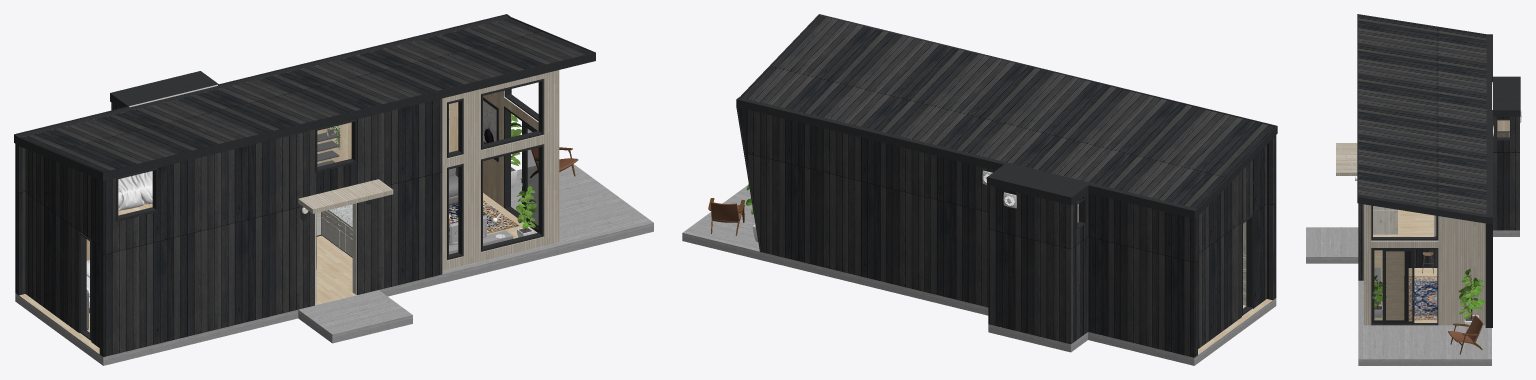
File: small_wood_house.glb
3 views of the same model, side by side, from view 1: azimuth 30°, elevation 25°; view 2: azimuth 150°, elevation 25°; view 3: azimuth 270°, elevation 25° (orthographic). The views are drawn at different scales.
Visible parts, largest first — view 1: Mesh2_Western_Red_Cedar_Stack_0, Mesh4_Steel_Brushed_Stainless_0, Mesh1_Pigmented_Concrete_0, Mesh2_Douglas_Fir_Staggered_0, Mesh1_Douglas_Fir_Staggered1_0, Mesh2_Ash_0, Mesh2_FrontColor_0, Mesh86_______Vicky______50_0, Mesh83_M_22_raw_wood_oak_light_PBR_texture_seamless_0, Mesh356_Persian_Rug_blue_0, Mesh31__Translucent_Glass_Gray_1_0, Mesh94_Knotted_Timber_0 (+2 smaller); view 2: Mesh2_Western_Red_Cedar_Stack_0, Mesh4_Steel_Brushed_Stainless_0, Mesh1_Pigmented_Concrete_0, Mesh442_Sofa_Midas_Estofado_Leather_0, Mesh1_Douglas_Fir_Staggered1_0; view 3: Mesh2_Western_Red_Cedar_Stack_0, Mesh1_Pigmented_Concrete_0, Mesh4_Steel_Brushed_Stainless_0, Mesh2_Douglas_Fir_Staggered_0, Mesh1_Douglas_Fir_Staggered1_0, Mesh31__Translucent_Glass_Gray_1_0, Mesh356_Persian_Rug_blue_0, Mesh83_M_22_raw_wood_oak_light_PBR_texture_seamless_0, Mesh491_VP_ficus_elastica_leaf_2_0, Mesh2_FrontColor_0, Mesh29_Corrugated_Dark_Matte_Powder_Coated_Metal_0, Mesh442_Sofa_Midas_Estofado_Leather_0 (+3 smaller).
Part boxes in pixels (box(x1,y1,x2,y2)): Mesh2_Western_Red_Cedar_Stack_0: box(15, 18, 592, 356); Mesh4_Steel_Brushed_Stainless_0: box(14, 14, 595, 340); Mesh1_Pigmented_Concrete_0: box(15, 158, 653, 365); Mesh2_Douglas_Fir_Staggered_0: box(298, 70, 559, 270); Mesh1_Douglas_Fir_Staggered1_0: box(19, 193, 537, 353); Mesh2_Ash_0: box(86, 91, 538, 260); Mesh2_FrontColor_0: box(89, 84, 538, 313); Mesh86_______Vicky______50_0: box(86, 171, 152, 297); Mesh83_M_22_raw_wood_oak_light_PBR_texture_seamless_0: box(315, 203, 356, 304); Mesh356_Persian_Rug_blue_0: box(449, 199, 519, 243); Mesh31__Translucent_Glass_Gray_1_0: box(449, 128, 538, 244); Mesh94_Knotted_Timber_0: box(316, 216, 352, 256); Mesh2_Western_Red_Cedar_Stack_0: box(738, 15, 1276, 357); Mesh4_Steel_Brushed_Stainless_0: box(736, 14, 1277, 315); Mesh1_Pigmented_Concrete_0: box(682, 185, 1276, 365); Mesh442_Sofa_Midas_Estofado_Leather_0: box(711, 202, 744, 222); Mesh1_Douglas_Fir_Staggered1_0: box(1198, 299, 1272, 354); Mesh2_Western_Red_Cedar_Stack_0: box(1358, 15, 1519, 280); Mesh1_Pigmented_Concrete_0: box(1306, 227, 1519, 365); Mesh4_Steel_Brushed_Stainless_0: box(1357, 14, 1520, 327); Mesh2_Douglas_Fir_Staggered_0: box(1336, 143, 1485, 325); Mesh1_Douglas_Fir_Staggered1_0: box(1373, 209, 1437, 322); Mesh31__Translucent_Glass_Gray_1_0: box(1374, 132, 1509, 320); Mesh356_Persian_Rug_blue_0: box(1404, 276, 1437, 320); Mesh83_M_22_raw_wood_oak_light_PBR_texture_seamless_0: box(1373, 206, 1397, 234); Mesh491_VP_ficus_elastica_leaf_2_0: box(1374, 270, 1484, 319); Mesh2_FrontColor_0: box(1371, 84, 1521, 331); Mesh29_Corrugated_Dark_Matte_Powder_Coated_Metal_0: box(1372, 250, 1436, 324); Mesh442_Sofa_Midas_Estofado_Leather_0: box(1448, 315, 1482, 343).
Bounding box in the file's own units: 130 × 43.7 × 57.99.
52 materials, 52 textured.
